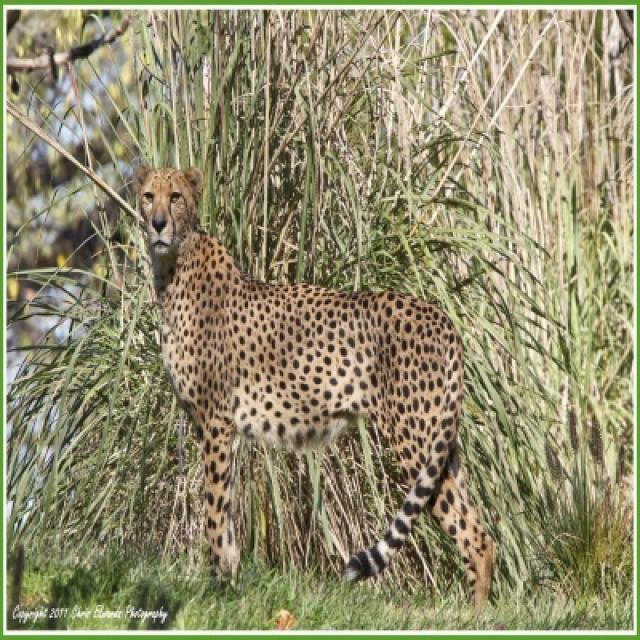Cheetah: (136, 168, 493, 598)
